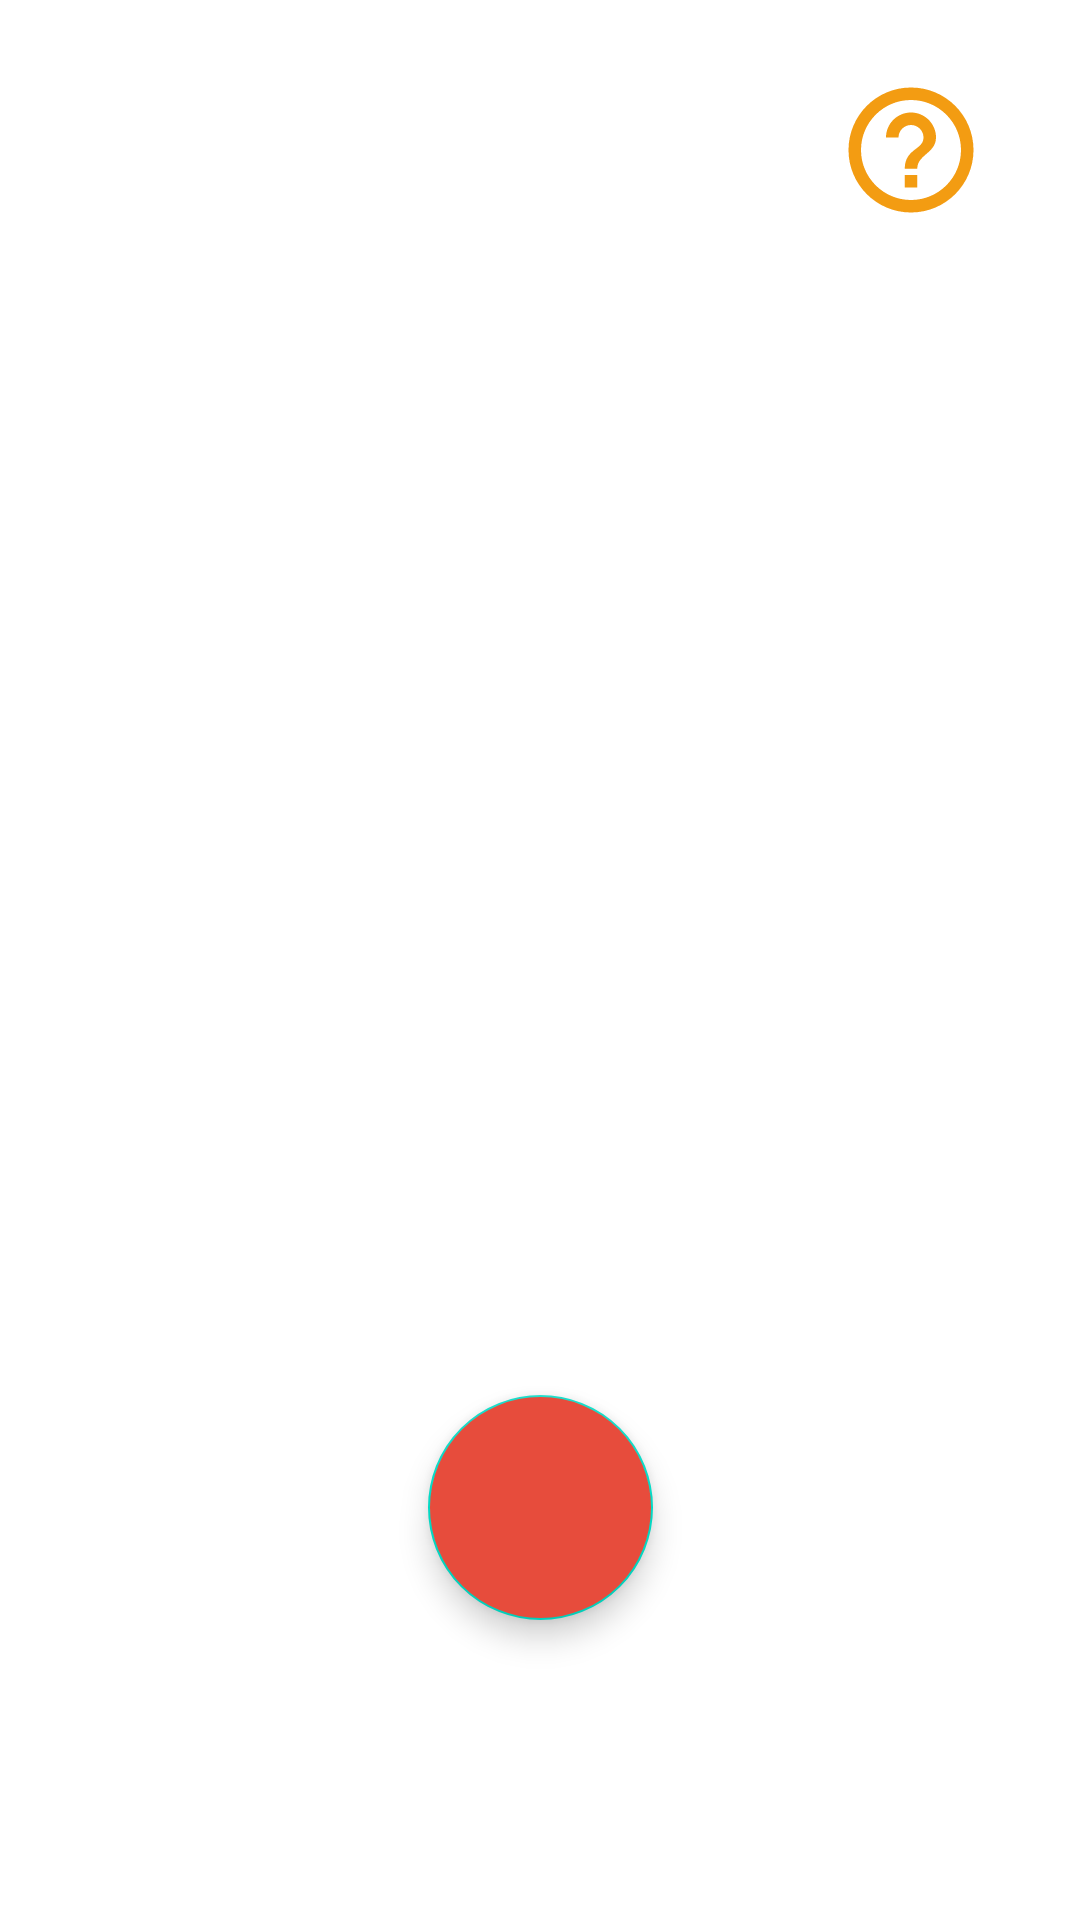

Named icons in this screenshot (1080 x 1920) and their centers, (x=x, y=y):
help: (x=911, y=150)
